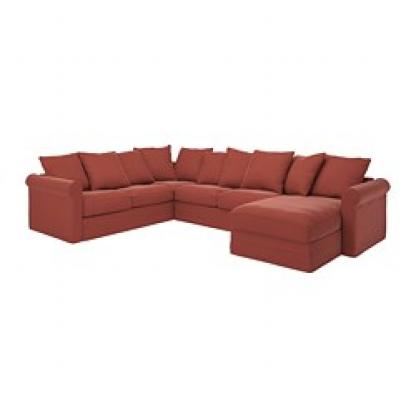Sofa: (18, 112, 393, 280)
